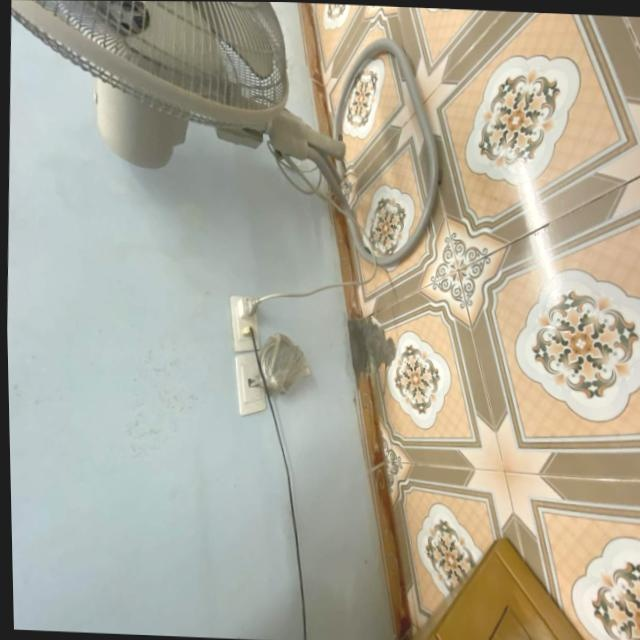outlet: (233, 350, 268, 416), (227, 294, 262, 352)
